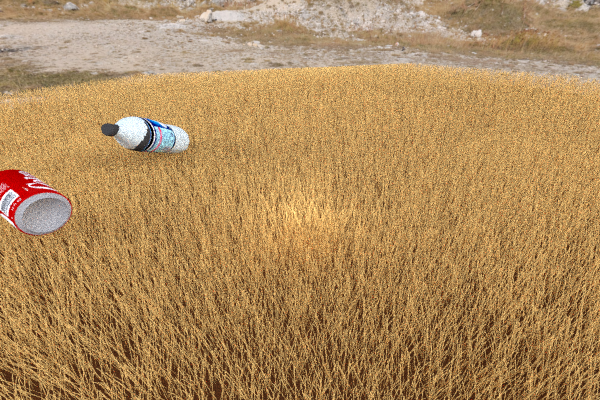Plastic Bottle: (0, 169, 72, 235), (101, 116, 189, 153)
